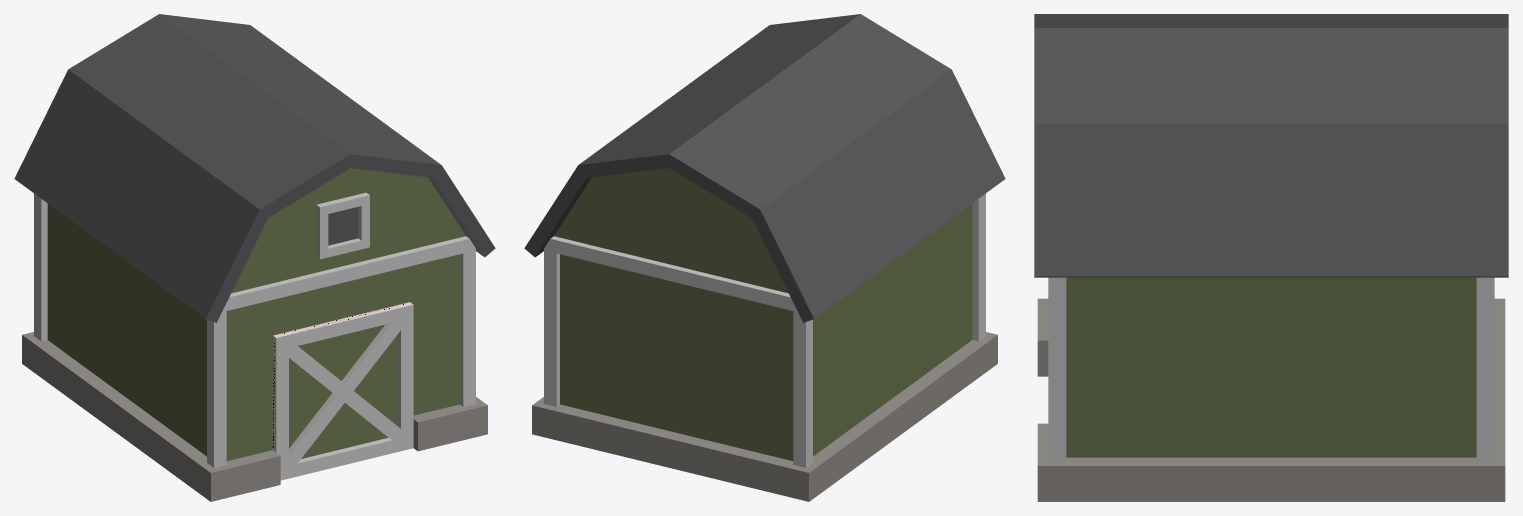
Rendered from Barn_Desert.fbx.
3 renders of one model, left to right at view 1: azimuth 30°, elevation 25°; view 2: azimuth 150°, elevation 25°; view 3: azimuth 270°, elevation 25°, orthographic. The views are drawn at different scales.
Visible parts, largest first — view 1: Barn_Desert; view 2: Barn_Desert; view 3: Barn_Desert.
Boxes of the visible parts, x1,y1,x2,y2 form: Barn_Desert: (14, 14, 495, 501); Barn_Desert: (524, 14, 1005, 501); Barn_Desert: (1034, 14, 1508, 501).
Bounding box in the file's own units: 4.18 × 4.34 × 4.79.
